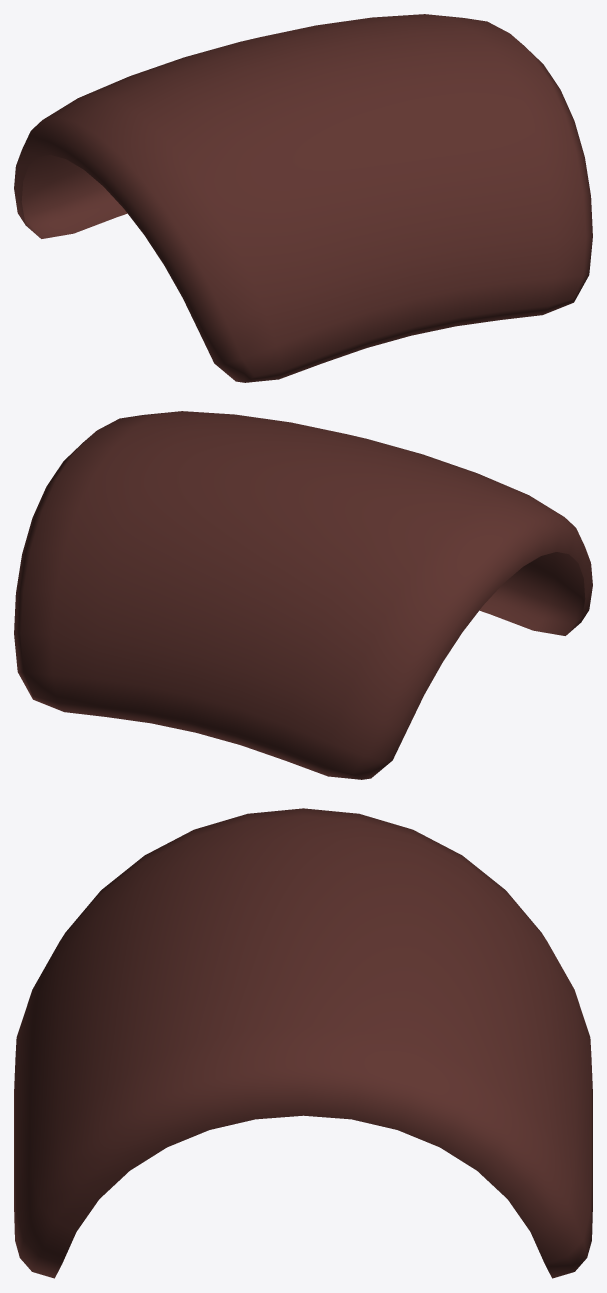
Rendered from Ground_Patch_Small.fbx.
The picture shows the model from 3 angles, top to bottom: view 1: azimuth 30°, elevation 25°; view 2: azimuth 150°, elevation 25°; view 3: azimuth 270°, elevation 25°; orthographic projection. The views are drawn at different scales.
Visible parts, largest first — view 1: ForestPlanet_Ground.006; view 2: ForestPlanet_Ground.006; view 3: ForestPlanet_Ground.006.
Part boxes in pixels (x1,y1,x2,y2): ForestPlanet_Ground.006: (14,14,592,382); ForestPlanet_Ground.006: (14,411,592,779); ForestPlanet_Ground.006: (14,808,592,1278).
Size of the model in its own units: 64.61 by 30.79 by 57.44.
